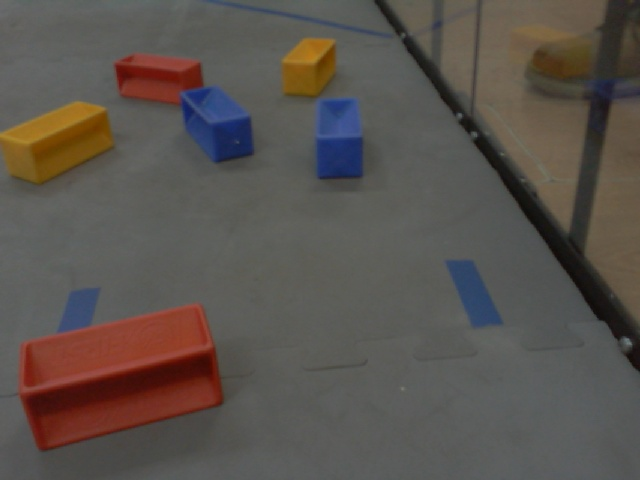BlueSample: (175, 81, 258, 163), (312, 92, 367, 183)
RedSample: (16, 301, 226, 452), (113, 51, 203, 105)
YellowSample: (1, 101, 117, 184), (279, 34, 338, 98)
